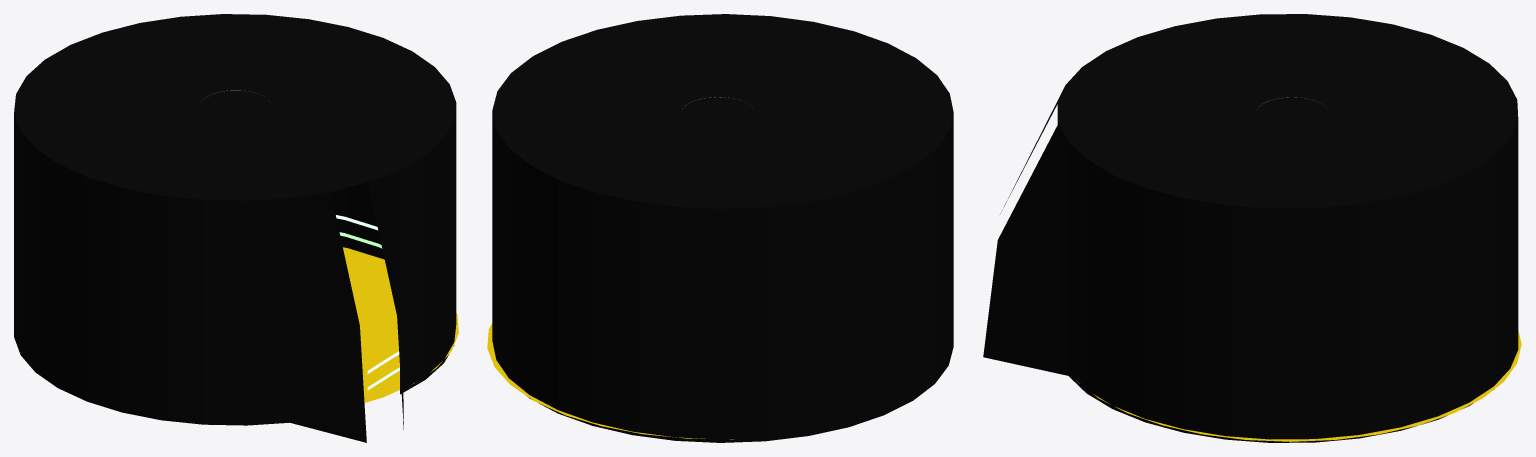
File: Asuka Cave.glb
3 views of the same model, side by side, from view 1: azimuth 30°, elevation 25°; view 2: azimuth 150°, elevation 25°; view 3: azimuth 270°, elevation 25° (orthographic). The views are drawn at different scales.
Parts seen in each view (by area): view 1: Cylinder.007, Circle; view 2: Cylinder.007, Circle; view 3: Cylinder.007, Circle.
Boxes of the visible parts, <box> form: Cylinder.007: <box>14,14,456,442</box>; Circle: <box>343,247,458,402</box>; Cylinder.007: <box>492,14,953,442</box>; Circle: <box>487,323,733,439</box>; Cylinder.007: <box>983,14,1518,442</box>; Circle: <box>1077,330,1521,441</box>.
Bounding box in the file's own units: 118 × 65.67 × 137.
